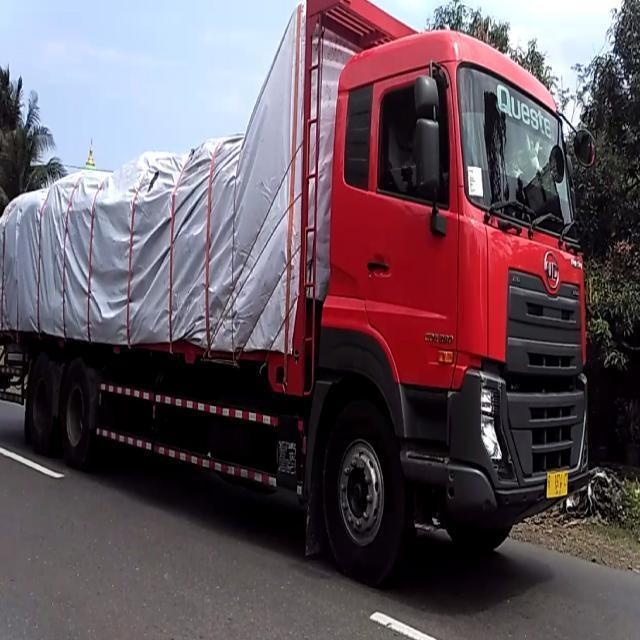Truck: (0, 0, 593, 583)
